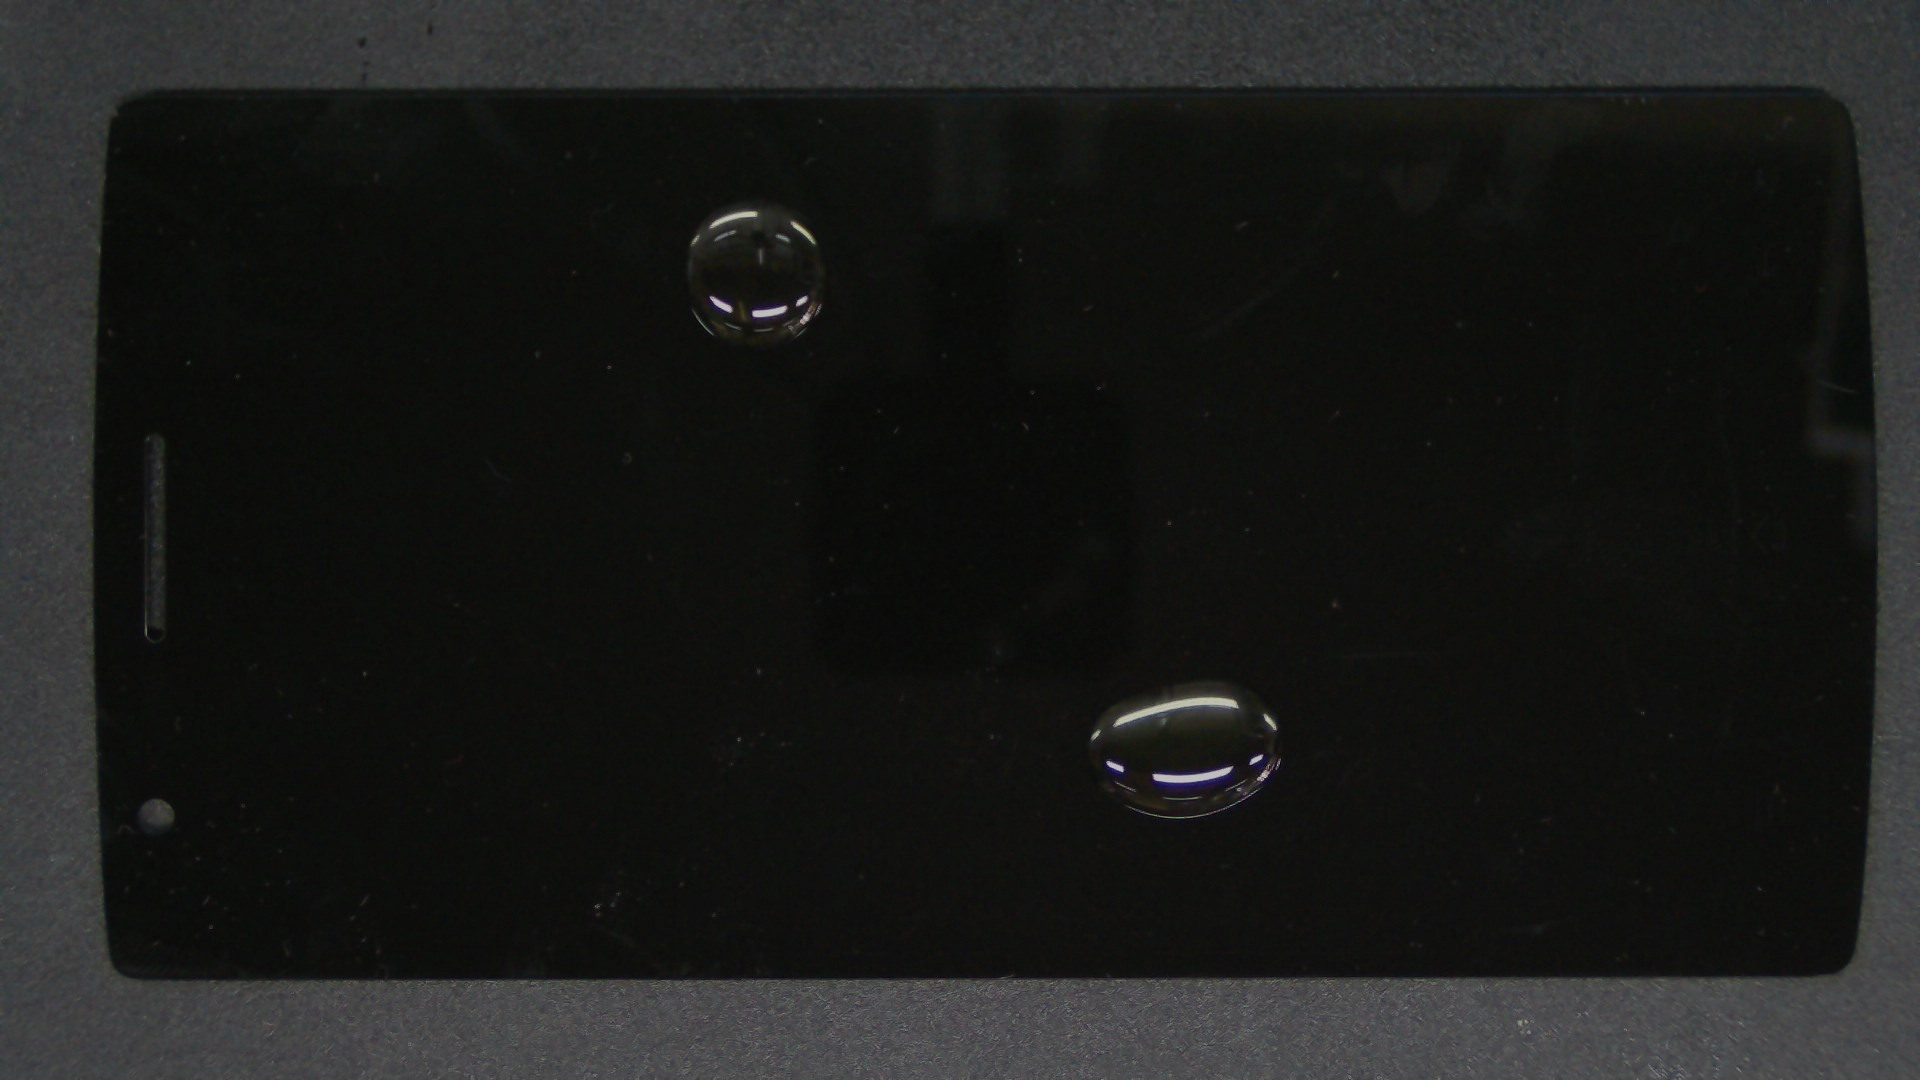oil: (599, 340, 1795, 1023), (382, 99, 1147, 298)
